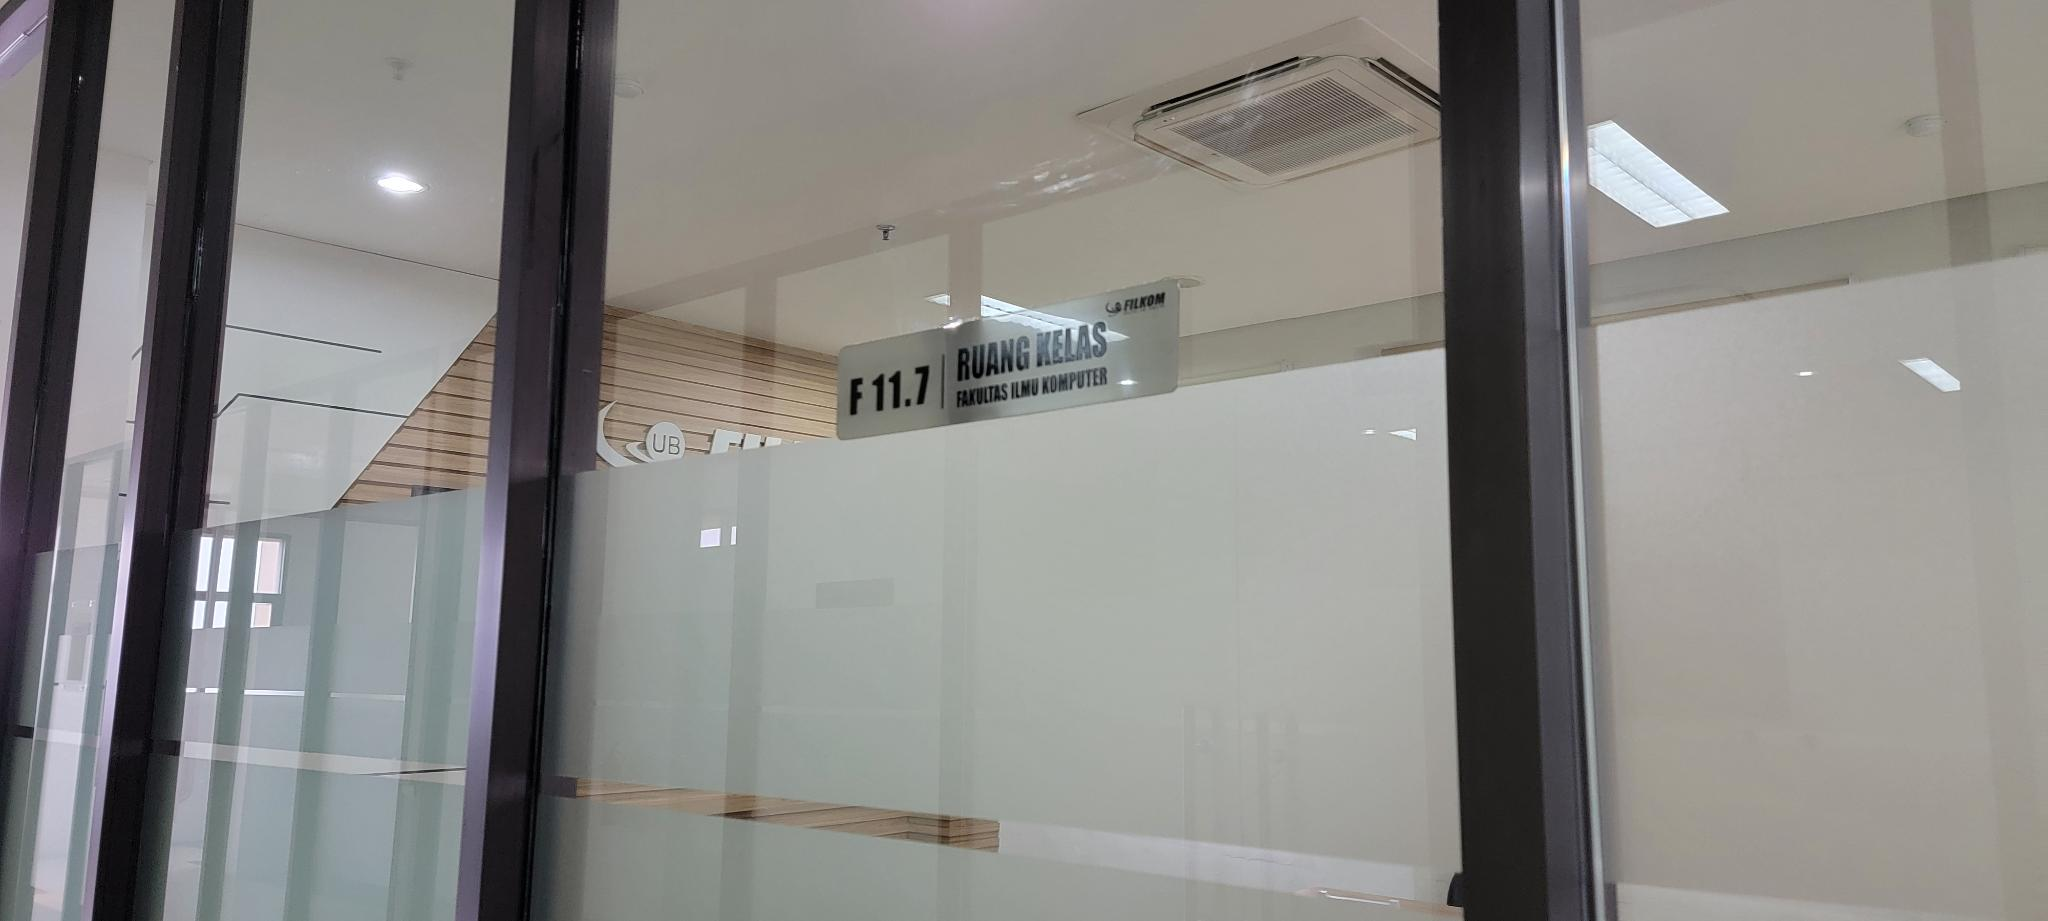plate: (835, 283, 1179, 445)
